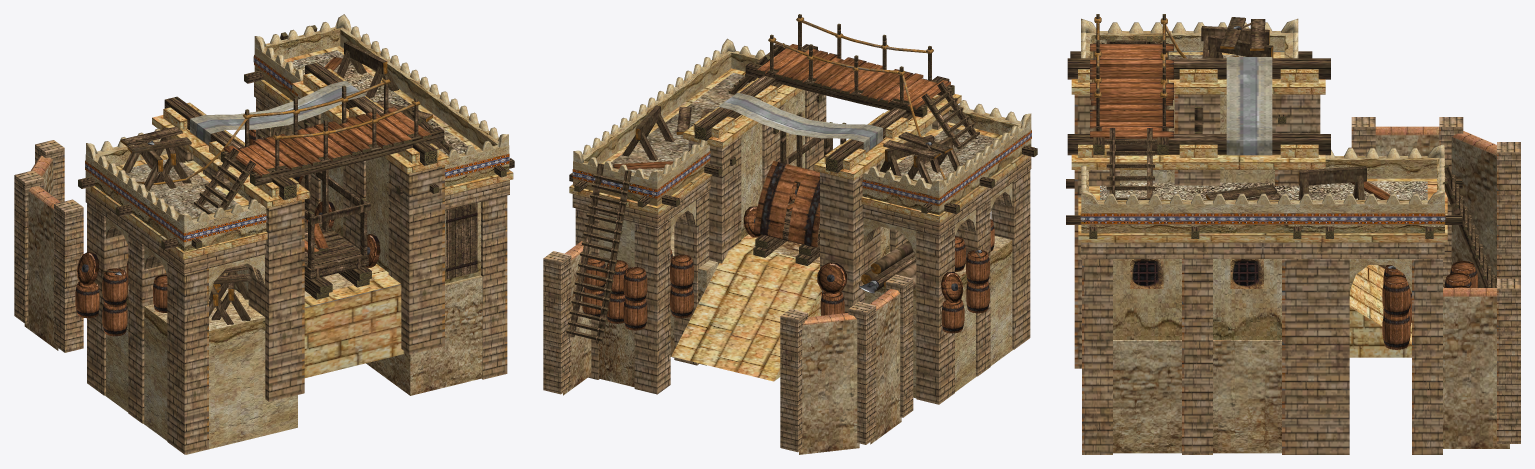
The model's file is pers_workshop.glb.
The picture shows the model from 3 angles, left to right: view 1: azimuth 30°, elevation 25°; view 2: azimuth 150°, elevation 25°; view 3: azimuth 270°, elevation 25°; orthographic projection. The views are drawn at different scales.
Size of the model in its own units: 27.45 by 21.96 by 27.92.
Materials: 1 (1 with a texture image).
